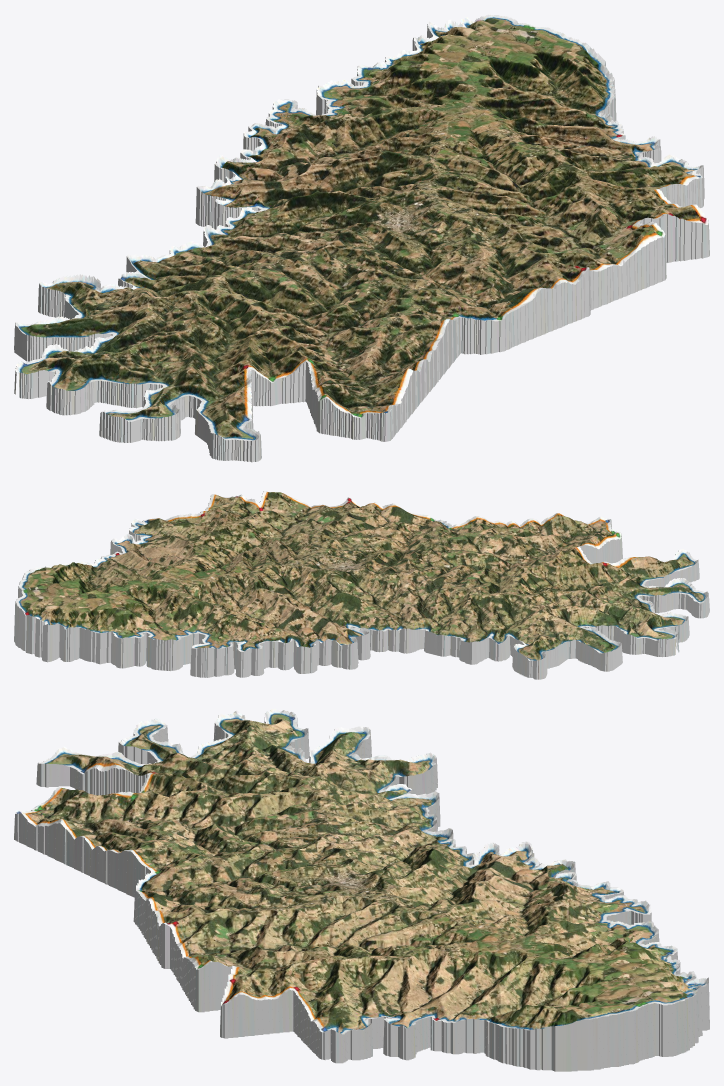
The picture shows the model from 3 angles, top to bottom: view 1: azimuth 30°, elevation 25°; view 2: azimuth 150°, elevation 25°; view 3: azimuth 270°, elevation 25°; orthographic projection. The views are drawn at different scales.
Size of the model in its own units: 1 by 0.0731 by 0.8649.
Materials: 1 (1 with a texture image).
